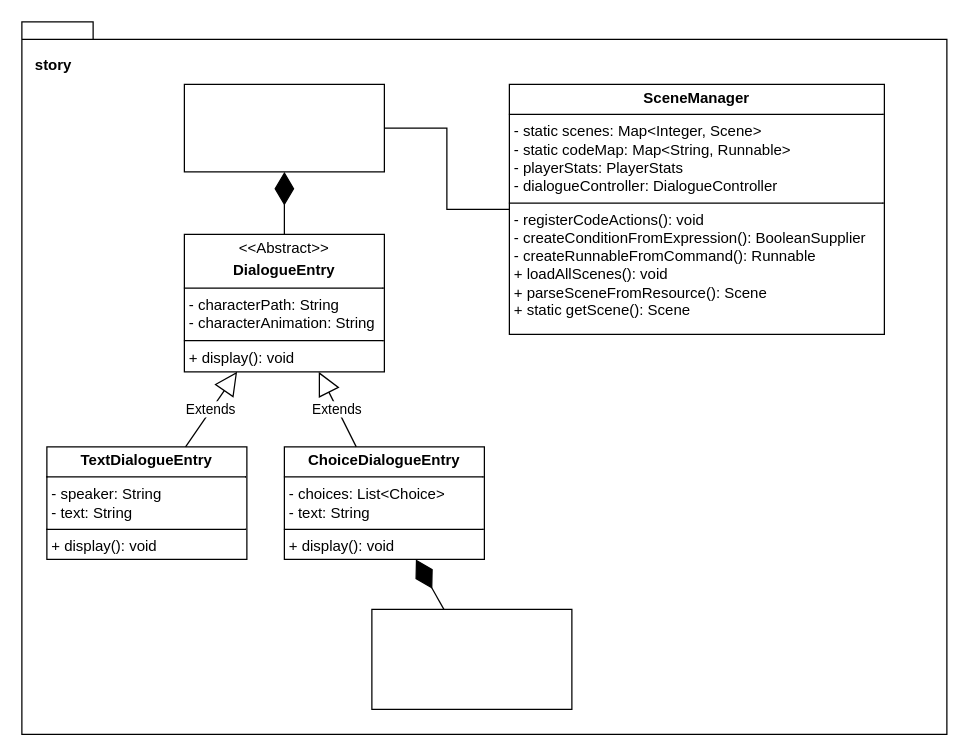
The diagram is 969 pixels wide and 756 high, and some of its shapes have lost their labels. The shapes that lost their labels are listed below. From the top down, each one's centre as x and y in pixels, then its label:
the point at 283,127: Scene - backgroundPath: String - dialogues: DialogueEntry[]
the point at 471,658: Choice - text: String - action: Runnable - condition: BooleanSupplier
